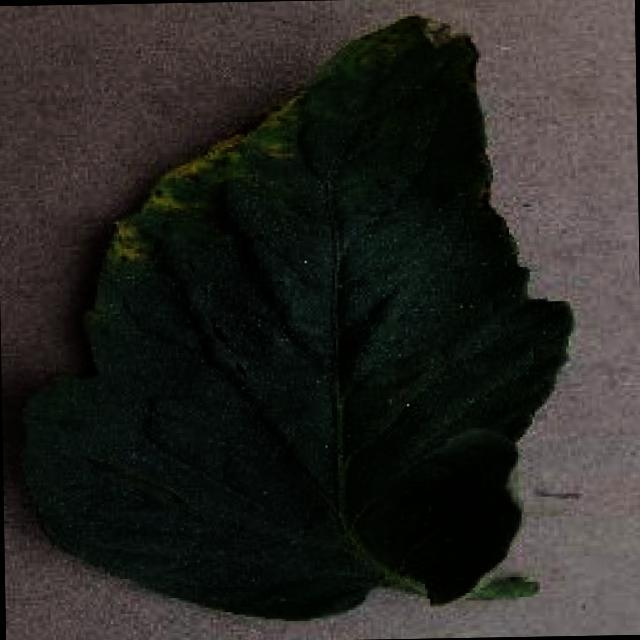Tomato bacterial spot leaf: (11, 4, 584, 629)
